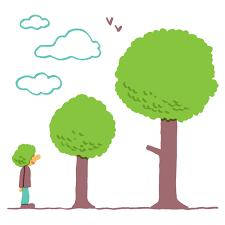tree: (118, 28, 219, 209), (49, 94, 116, 209)
